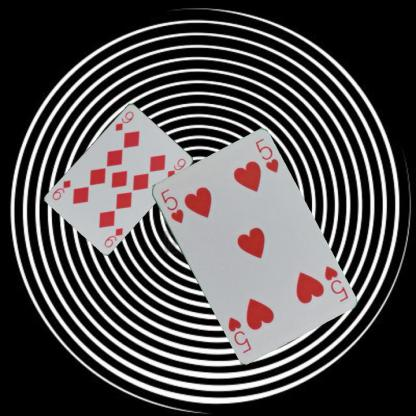5h: (321, 263, 350, 303), (158, 186, 185, 225)
9d: (113, 108, 135, 132), (102, 225, 124, 249)
